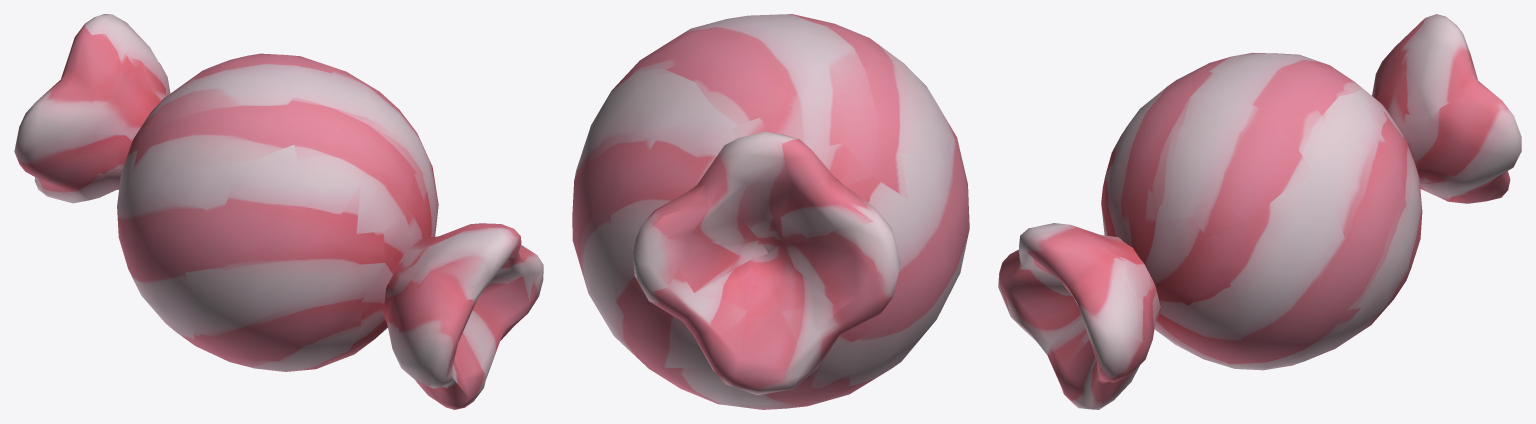
File: S10_CandyWrapped_LOD2.fbx
3 renders of one model, left to right at view 1: azimuth 30°, elevation 25°; view 2: azimuth 150°, elevation 25°; view 3: azimuth 270°, elevation 25°, orthographic. The views are drawn at different scales.
Visible parts, largest first — view 1: S10_CandyWrapped_LOD2; view 2: S10_CandyWrapped_LOD2; view 3: S10_CandyWrapped_LOD2.
Part boxes in pixels (x1=…): S10_CandyWrapped_LOD2: x1=14, y1=14, x2=543, y2=409; S10_CandyWrapped_LOD2: x1=572, y1=14, x2=969, y2=409; S10_CandyWrapped_LOD2: x1=998, y1=14, x2=1521, y2=409.
Bounding box in the file's own units: 0.0385 × 0.03 × 0.0477.
1 material, 1 textured.
